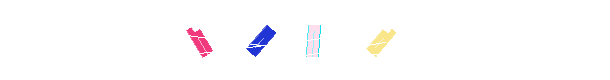6: (225, 0, 305, 80)
D: (340, 0, 420, 80)
H: (159, 0, 239, 80)
N: (265, 0, 345, 80)
